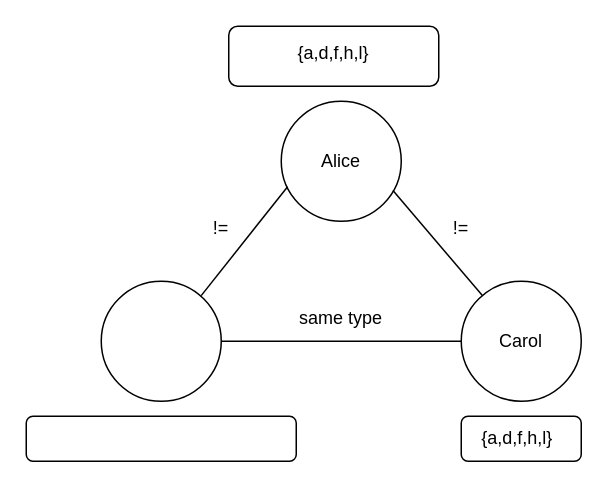
This 608x488 diagram has some shape labels left out. Each missing label, with the box of its shape:
Betty: (100, 280, 221, 401)
Non-fiction{a,d,f,h,l}= {a, d, f}: (25, 415, 296, 461)
